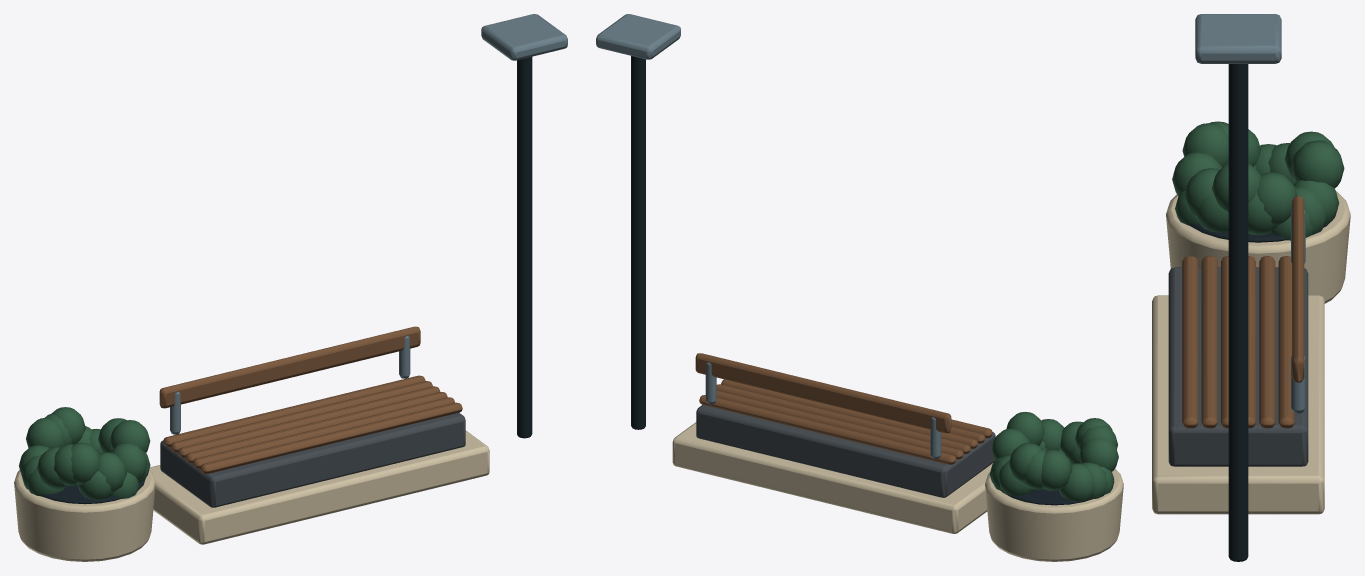
The model's file is plaza_furniture.glb.
3 views of the same model, side by side, from view 1: azimuth 30°, elevation 25°; view 2: azimuth 150°, elevation 25°; view 3: azimuth 270°, elevation 25° (orthographic). The views are drawn at different scales.
Parts seen in each view (by area): view 1: Detail.plaza_furniture.Stone, Detail.plaza_furniture.Wood, Detail.plaza_furniture.Concrete, Detail.plaza_furniture.Leaf, Detail.plaza_furniture.Dark, Detail.plaza_furniture.Metal; view 2: Detail.plaza_furniture.Stone, Detail.plaza_furniture.Wood, Detail.plaza_furniture.Concrete, Detail.plaza_furniture.Leaf, Detail.plaza_furniture.Dark, Detail.plaza_furniture.Metal; view 3: Detail.plaza_furniture.Stone, Detail.plaza_furniture.Wood, Detail.plaza_furniture.Leaf, Detail.plaza_furniture.Dark, Detail.plaza_furniture.Concrete, Detail.plaza_furniture.Metal.
Boxes of the visible parts, x1,y1,x2,y2 form: Detail.plaza_furniture.Stone: (14, 430, 489, 561); Detail.plaza_furniture.Wood: (159, 326, 462, 473); Detail.plaza_furniture.Concrete: (160, 413, 465, 507); Detail.plaza_furniture.Leaf: (19, 407, 150, 499); Detail.plaza_furniture.Dark: (41, 57, 532, 504); Detail.plaza_furniture.Metal: (170, 14, 567, 434); Detail.plaza_furniture.Stone: (672, 422, 1123, 561); Detail.plaza_furniture.Wood: (695, 353, 992, 464); Detail.plaza_furniture.Concrete: (696, 404, 995, 497); Detail.plaza_furniture.Leaf: (989, 412, 1118, 501); Detail.plaza_furniture.Dark: (631, 56, 1114, 505); Detail.plaza_furniture.Metal: (596, 14, 941, 459); Detail.plaza_furniture.Stone: (1152, 191, 1350, 514); Detail.plaza_furniture.Wood: (1182, 195, 1304, 428); Detail.plaza_furniture.Leaf: (1172, 121, 1344, 240); Detail.plaza_furniture.Dark: (1189, 64, 1335, 561); Detail.plaza_furniture.Concrete: (1168, 267, 1308, 466); Detail.plaza_furniture.Metal: (1195, 14, 1305, 413).
Bounding box in the file's own units: 5.92 × 4.39 × 1.5.
